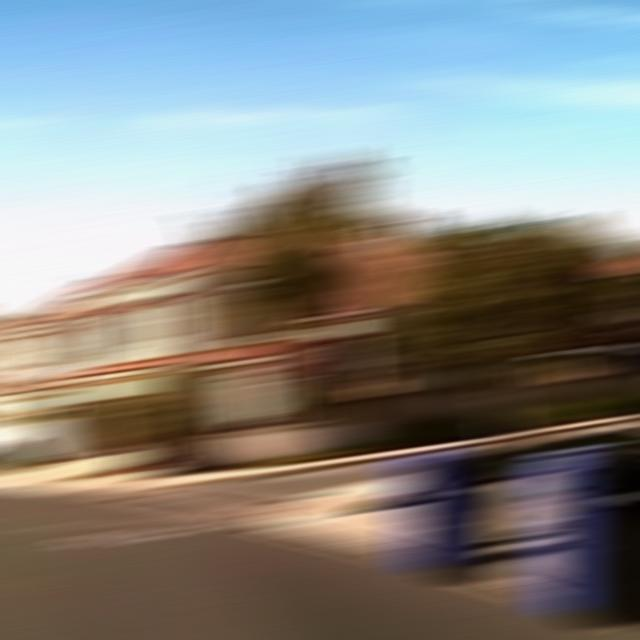stop: (260, 336, 318, 381)
